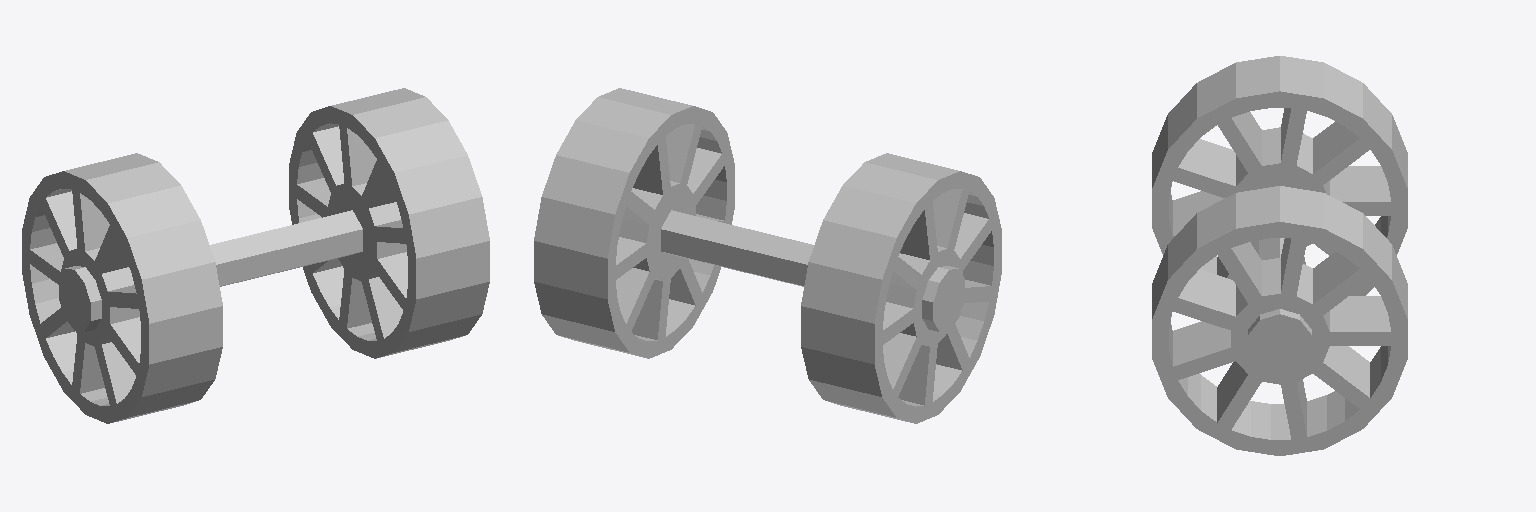
The model's file is end-effector-front-rollers.obj.
The picture shows the model from 3 angles: view 1: azimuth 30°, elevation 25°; view 2: azimuth 150°, elevation 25°; view 3: azimuth 270°, elevation 25°; orthographic projection.
Visible parts, largest first — view 1: mesh91, mesh79, mesh93, mesh8, mesh9, mesh94, mesh1, mesh2, mesh7, mesh92, mesh95, mesh10 (+23 smaller); view 2: mesh91, mesh79, mesh100, mesh15, mesh14, mesh99, mesh4, mesh3, mesh16, mesh101, mesh98, mesh13 (+25 smaller); view 3: mesh164, mesh6, mesh166, mesh120, mesh35, mesh163, mesh50, mesh159, mesh96, mesh97, mesh11, mesh12 (+26 smaller).
Boxes of the visible parts, x1,y1,x2,y2 form: mesh91: [289, 106, 415, 358]; mesh79: [22, 171, 148, 423]; mesh93: [409, 197, 489, 258]; mesh8: [142, 262, 222, 323]; mesh9: [127, 220, 214, 279]; mesh94: [395, 155, 481, 214]; mesh1: [216, 229, 362, 285]; mesh2: [210, 210, 362, 264]; mesh7: [149, 306, 222, 364]; mesh92: [416, 241, 489, 298]; mesh95: [375, 120, 467, 172]; mesh10: [108, 186, 200, 237]; mesh91: [608, 106, 734, 358]; mesh79: [875, 171, 1001, 423]; mesh100: [534, 197, 614, 258]; mesh15: [801, 262, 881, 323]; mesh14: [809, 220, 896, 279]; mesh99: [542, 155, 628, 214]; mesh4: [661, 229, 807, 285]; mesh3: [661, 210, 813, 264]; mesh16: [801, 306, 874, 364]; mesh101: [534, 241, 607, 298]; mesh98: [556, 120, 648, 172]; mesh13: [823, 186, 915, 237]; mesh164: [1152, 222, 1407, 455]; mesh6: [1152, 91, 1407, 295]; mesh166: [1248, 314, 1311, 374]; mesh120: [1330, 296, 1390, 331]; mesh35: [1330, 166, 1390, 201]; mesh163: [1173, 321, 1230, 366]; mesh50: [1178, 139, 1235, 185]; mesh159: [1178, 269, 1235, 316]; mesh96: [1236, 186, 1279, 228]; mesh97: [1280, 186, 1323, 228]; mesh11: [1236, 56, 1279, 97]; mesh12: [1280, 56, 1323, 97].
Size of the model in its own units: 0.1251 by 0.0774 by 0.0762.